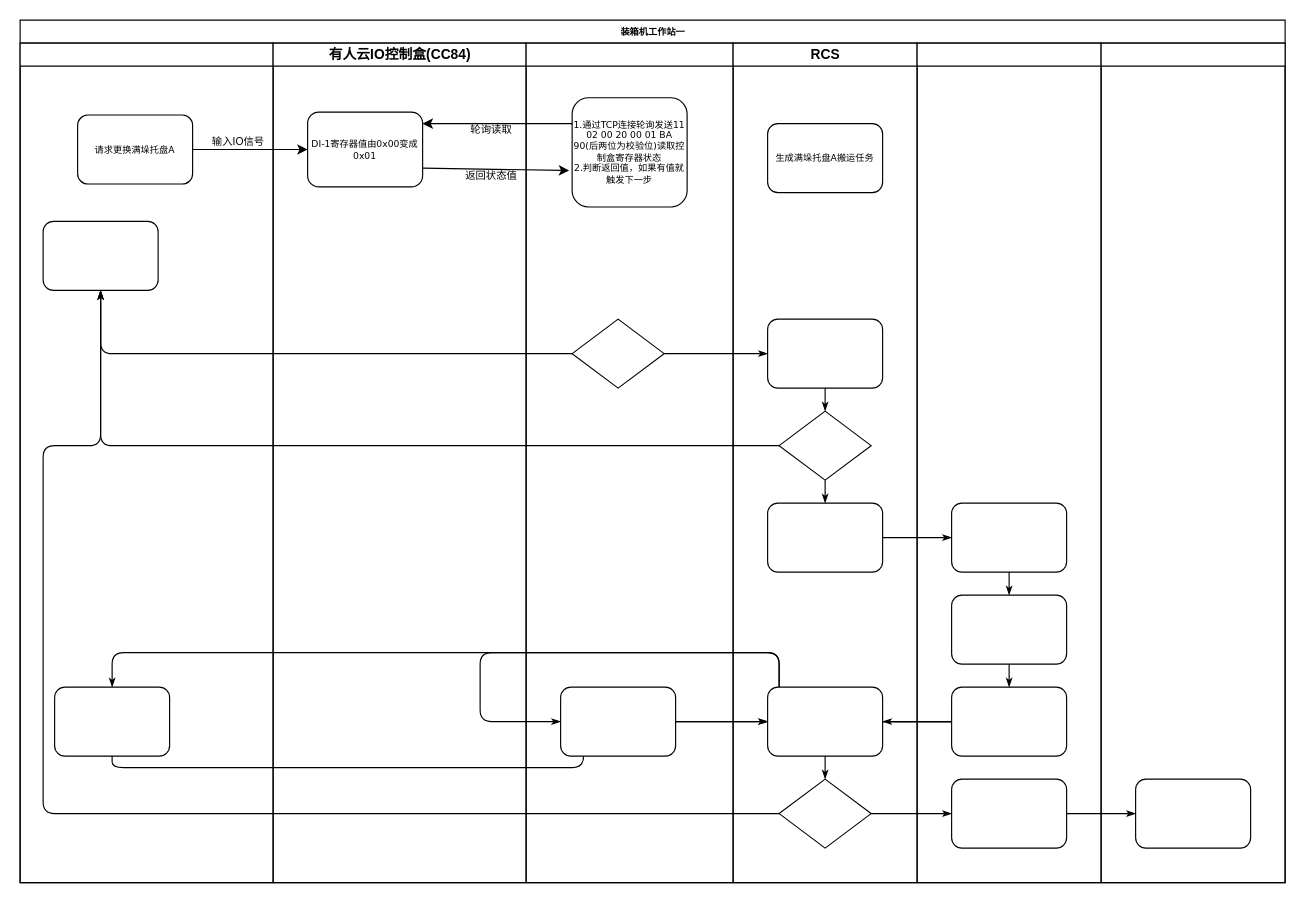
The diagram is 1305 pixels wide and 903 high, and some of its shapes have lost their labels. Each missing label, with the box of its shape:
Lane 5: (916, 42, 1101, 883)
Lane 6: (1100, 42, 1285, 883)
PLC: (19, 42, 273, 883)
WCS: (525, 42, 733, 883)
